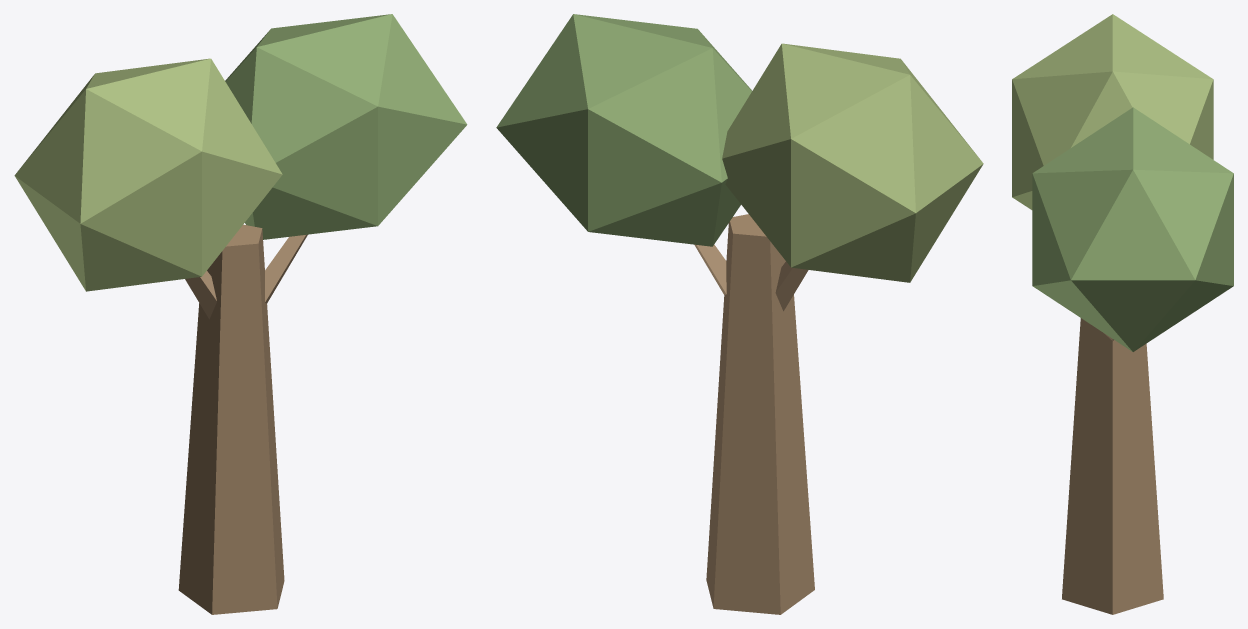
3 renders of one model, left to right at view 1: azimuth 30°, elevation 25°; view 2: azimuth 150°, elevation 25°; view 3: azimuth 270°, elevation 25°, orthographic. The views are drawn at different scales.
Visible parts, largest first — view 1: Body; view 2: Body; view 3: Body.
Part boxes in pixels (x1=…): Body: x1=14, y1=14, x2=467, y2=614; Body: x1=496, y1=14, x2=983, y2=614; Body: x1=1012, y1=14, x2=1233, y2=614.
Bounding box in the file's own units: 2.34 × 3.04 × 1.2.
